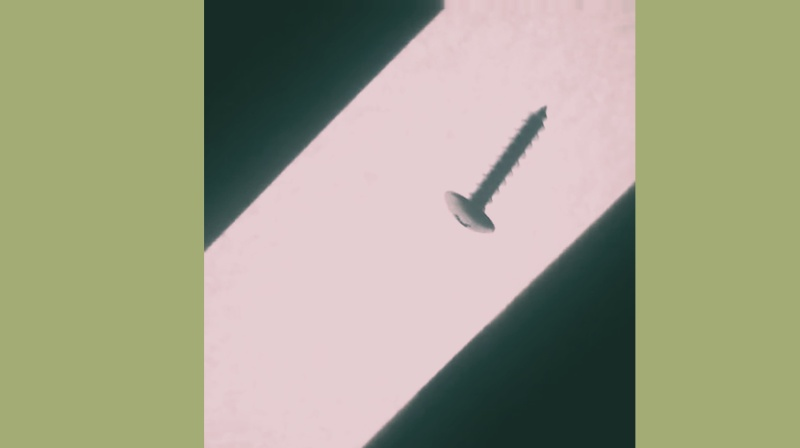S003: (440, 99, 549, 237)
